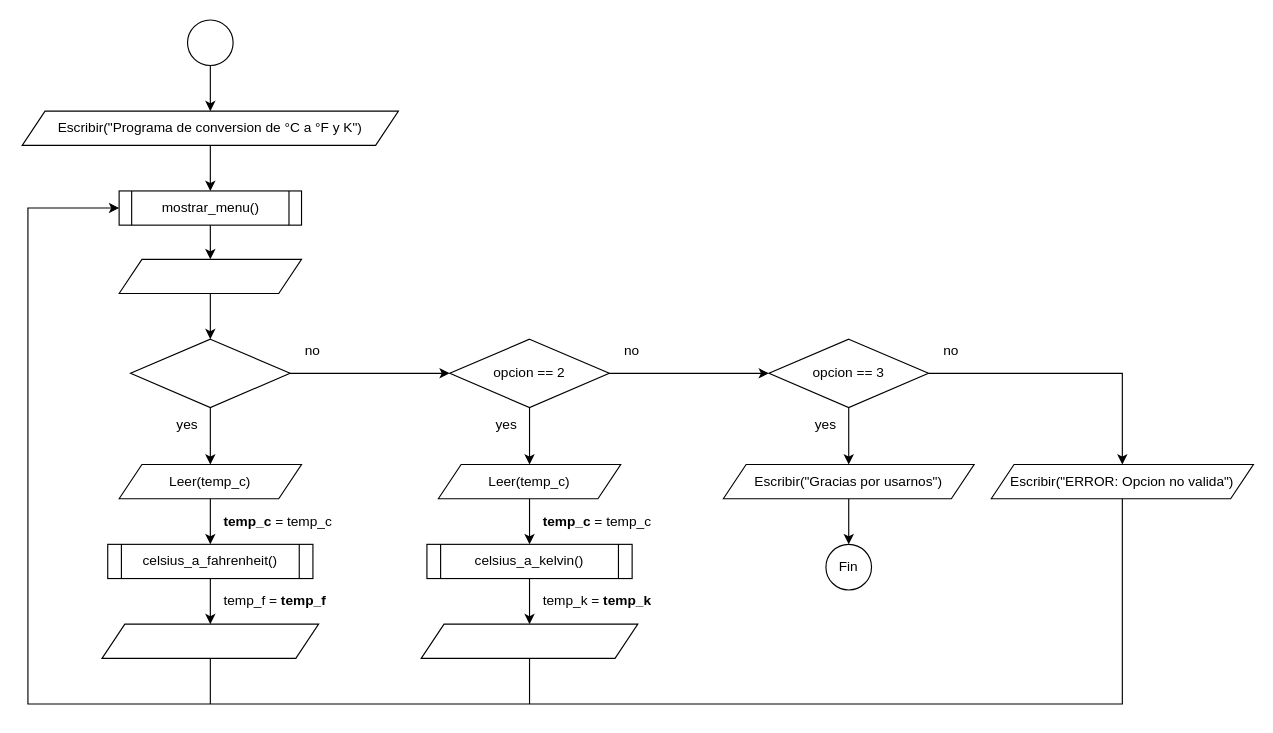
Image size: 1273x733. Some labels were removed from this diagram. The shapes that lost their labels are listed below. From the top down, each one's box as (x1, y1, x2, y2) in pixels, then its label:
(186, 19, 233, 66): Inicio
(118, 258, 302, 294): Leer(opcion)
(129, 338, 290, 408): opcion == 1
(101, 623, 319, 658): Escribir(temp_c, temp_f)
(420, 623, 638, 658): Escribir(temp_c, temp_k)
